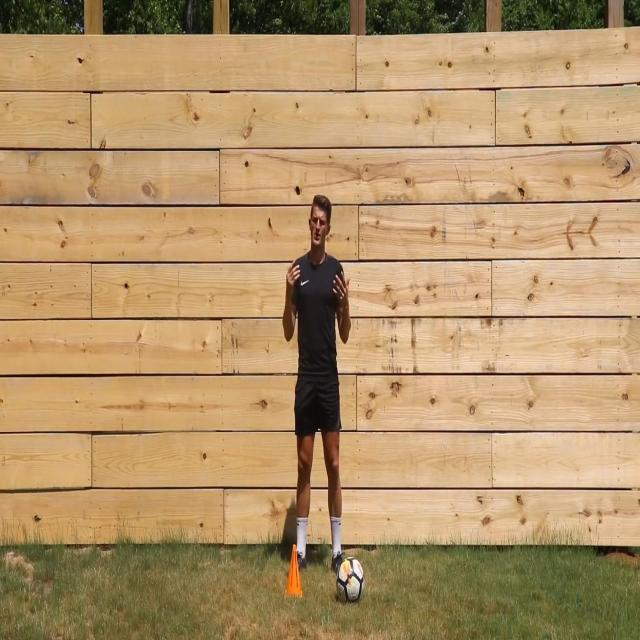Soccer Ball: (337, 555, 365, 606)
